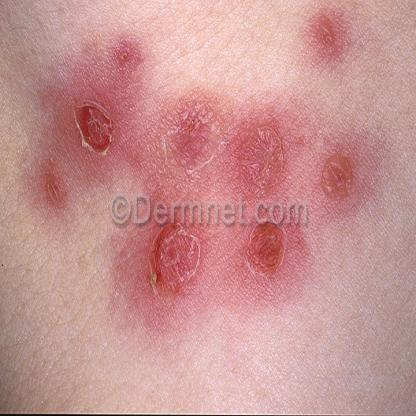Warts: (164, 85, 369, 198), (66, 91, 125, 159)
